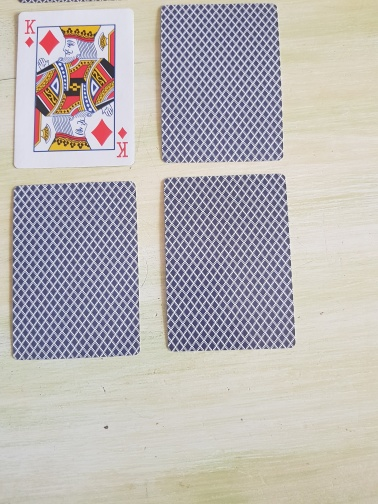king: (13, 7, 136, 169)
